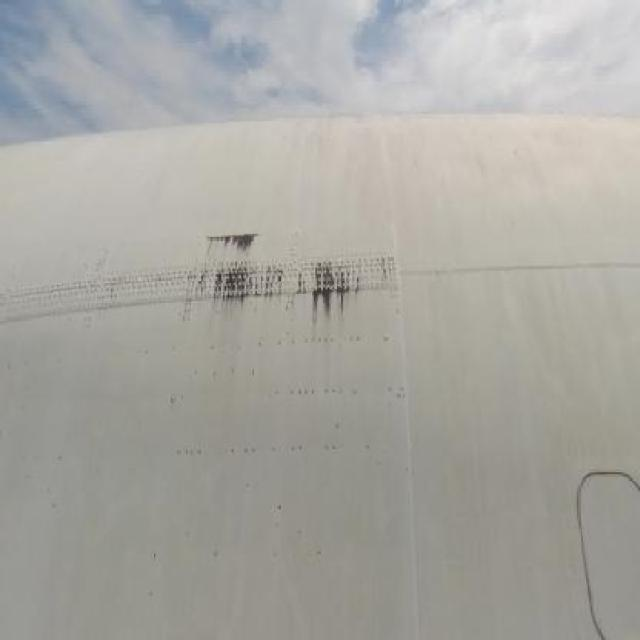Rust: (164, 210, 393, 344)
